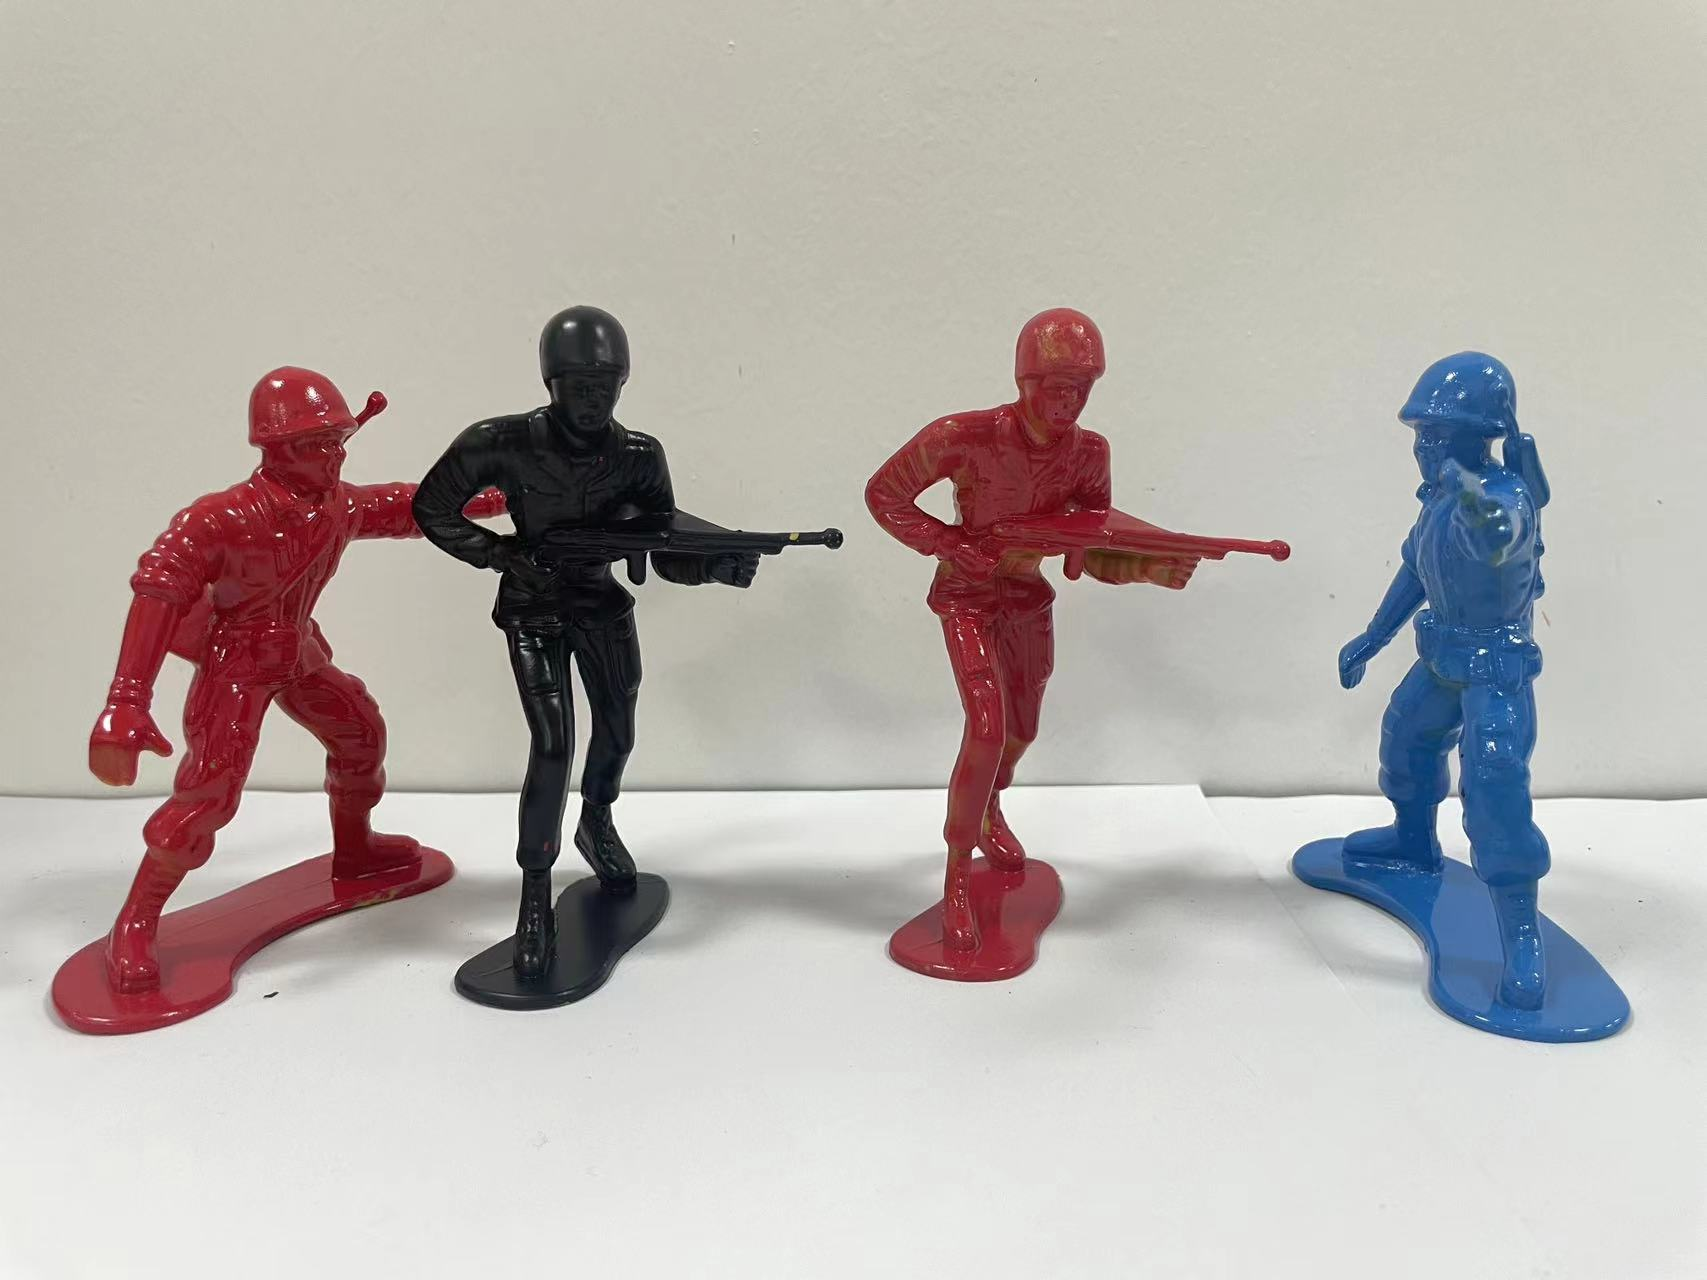black: (433, 304, 835, 1107)
blue: (1277, 303, 1647, 1111)
red: (871, 298, 1266, 1065), (32, 347, 413, 1059)
